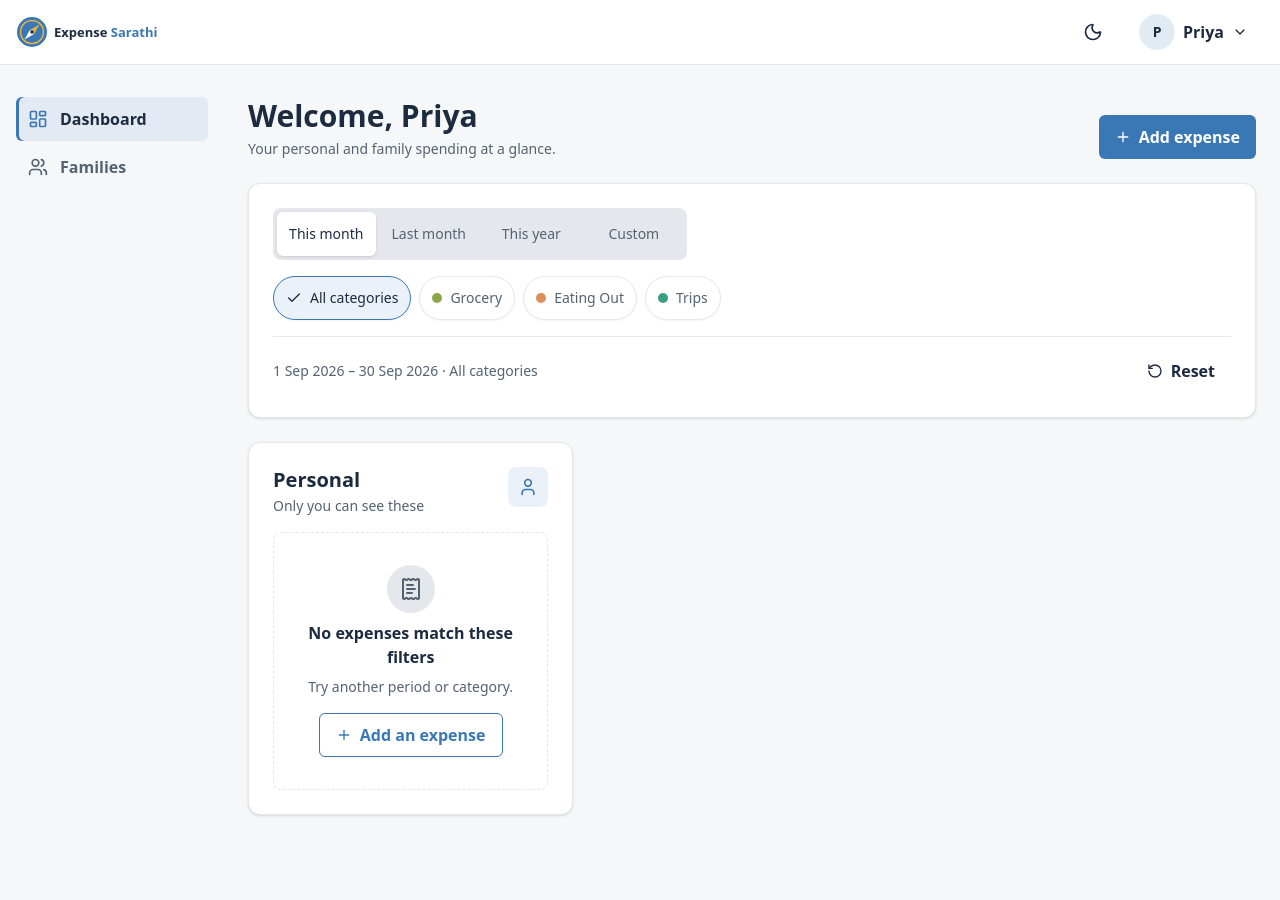
Test case: Top bar › opens a user menu with the name, email and Logout
Check: the heading "Welcome, Priya" is shown, box [248, 95, 478, 136]
Click the button "P Priya": click(1194, 32) [1123, 10, 1264, 54]
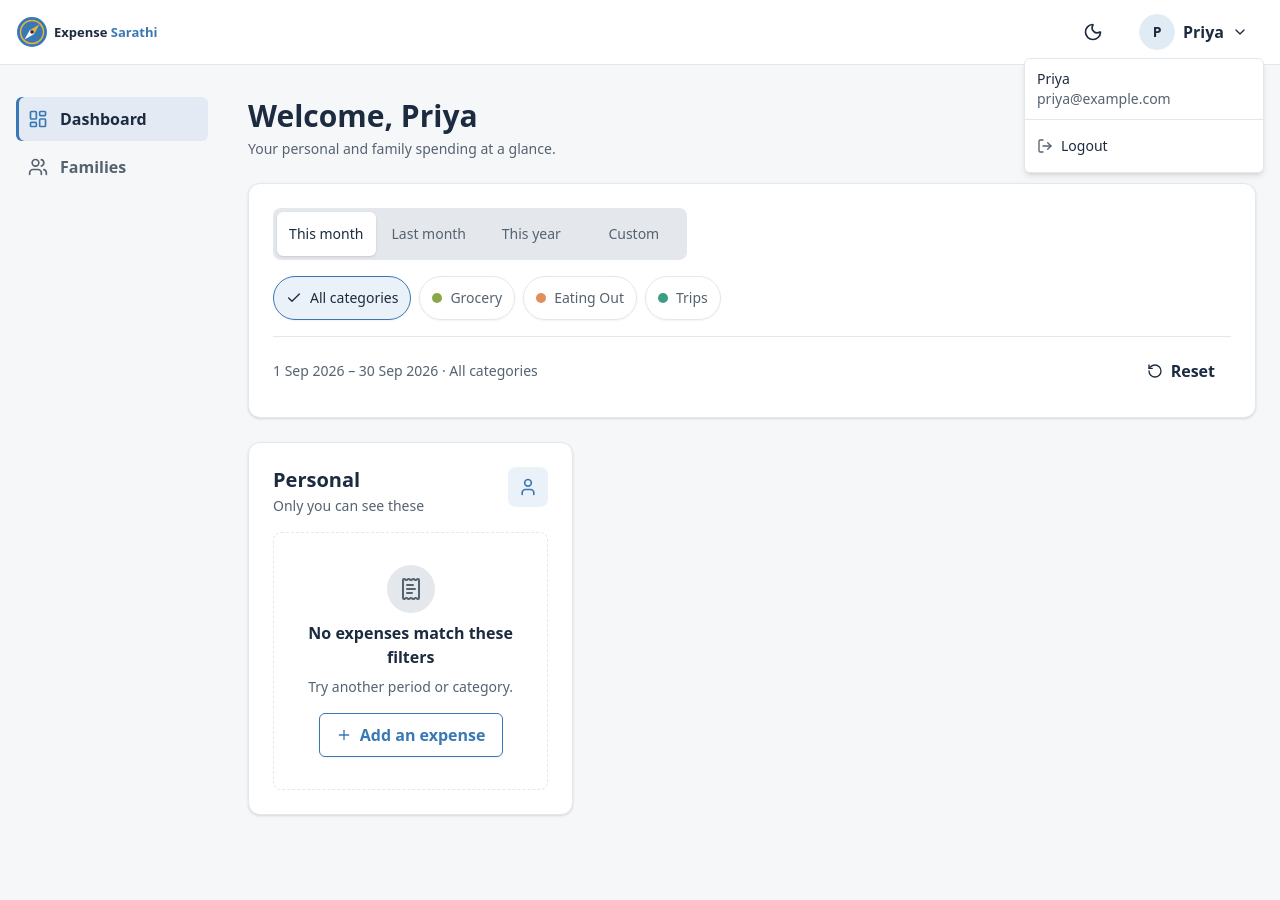
Check: the text "priya@example.com" is shown, box [1037, 89, 1171, 108]
Check: the menu item "Logout" is shown, box [1037, 136, 1108, 155]
